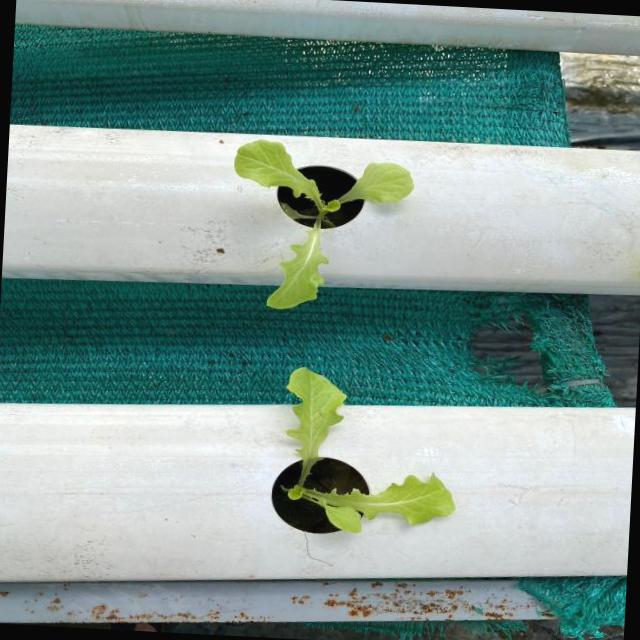Lettuce-Not-Ready-to-Harvest: (234, 140, 413, 309), (287, 368, 454, 532)
